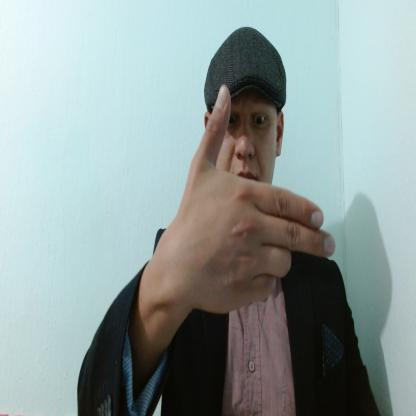H: (178, 83, 336, 315)
